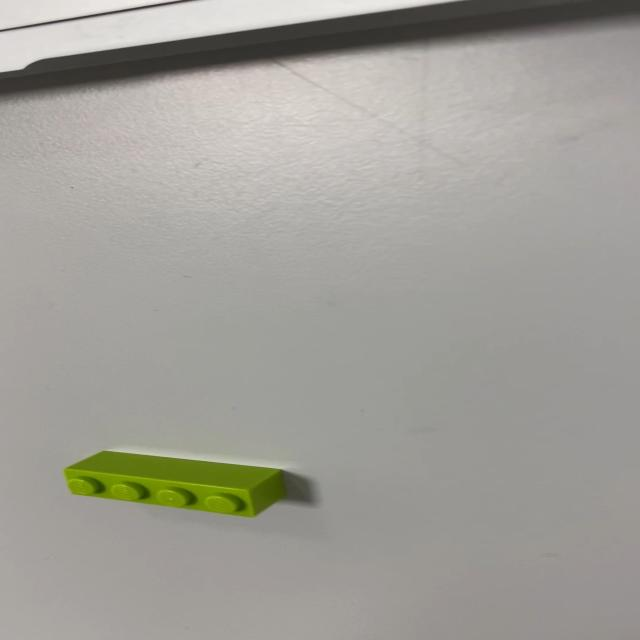C4x1x1: (62, 449, 286, 518)
